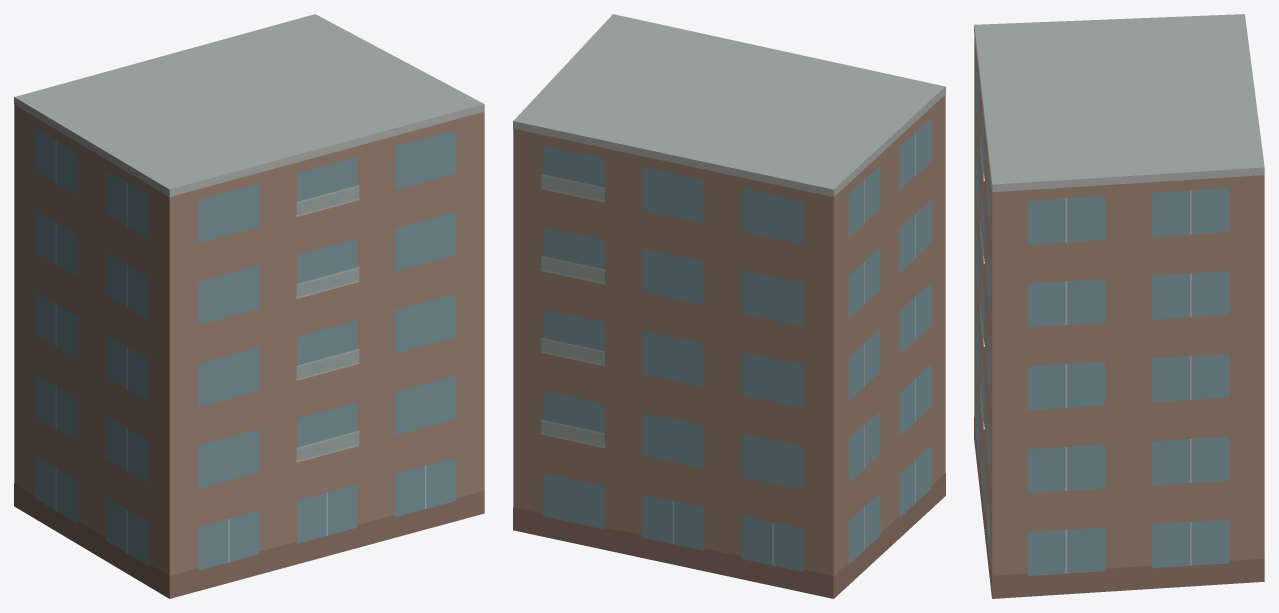
The model's file is survey-upis-32698326.glb.
The picture shows the model from 3 angles, left to right: view 1: azimuth 30°, elevation 25°; view 2: azimuth 150°, elevation 25°; view 3: azimuth 270°, elevation 25°; orthographic projection.
Parts seen in each view (by area): view 1: survey-upis-32698326.tmp; view 2: survey-upis-32698326.tmp; view 3: survey-upis-32698326.tmp.
Part boxes in pixels (left/top/right/bottom): survey-upis-32698326.tmp: left=14, top=14, right=484, bottom=598; survey-upis-32698326.tmp: left=513, top=14, right=945, bottom=598; survey-upis-32698326.tmp: left=974, top=14, right=1264, bottom=598.
Size of the model in its own units: 11.81 by 13.35 by 8.5.
